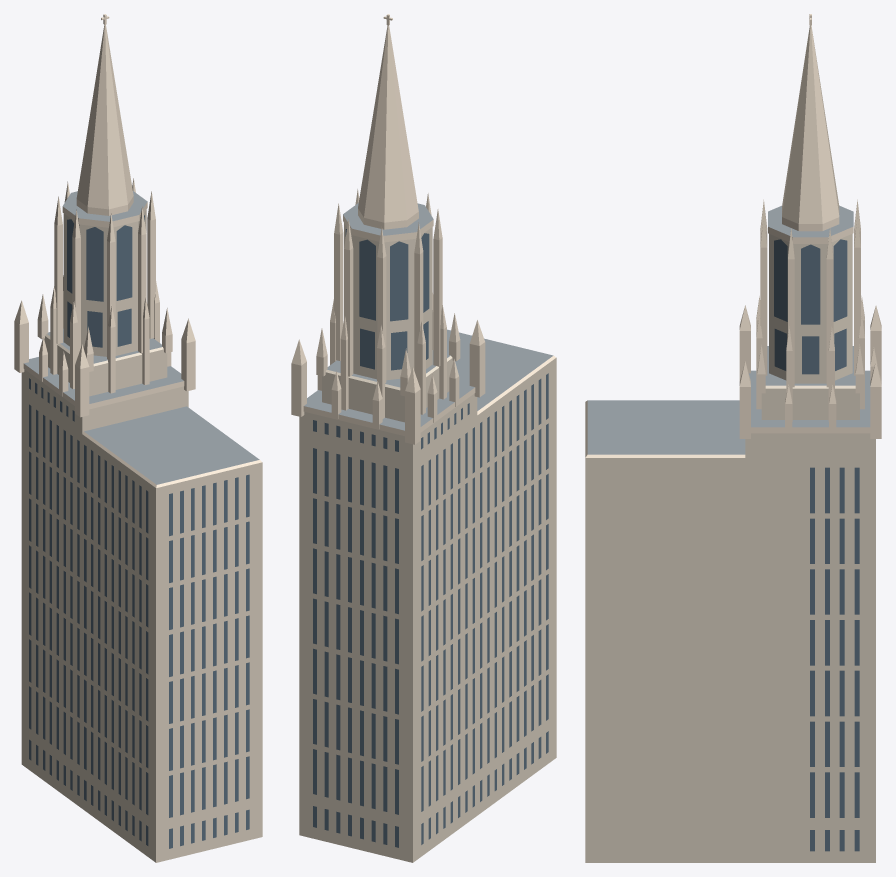
The model's file is chi-chicago-temple.glb.
3 views of the same model, side by side, from view 1: azimuth 30°, elevation 25°; view 2: azimuth 150°, elevation 25°; view 3: azimuth 270°, elevation 25° (orthographic). The views are drawn at different scales.
Visible parts, largest first — view 1: Chicago Temple Building; view 2: Chicago Temple Building; view 3: Chicago Temple Building.
Part boxes in pixels (left/top/right/bottom): Chicago Temple Building: left=14, top=14, right=262, bottom=862; Chicago Temple Building: left=291, top=14, right=556, bottom=862; Chicago Temple Building: left=585, top=14, right=881, bottom=862.
Size of the model in its own units: 27.6 by 173 by 56.74.
